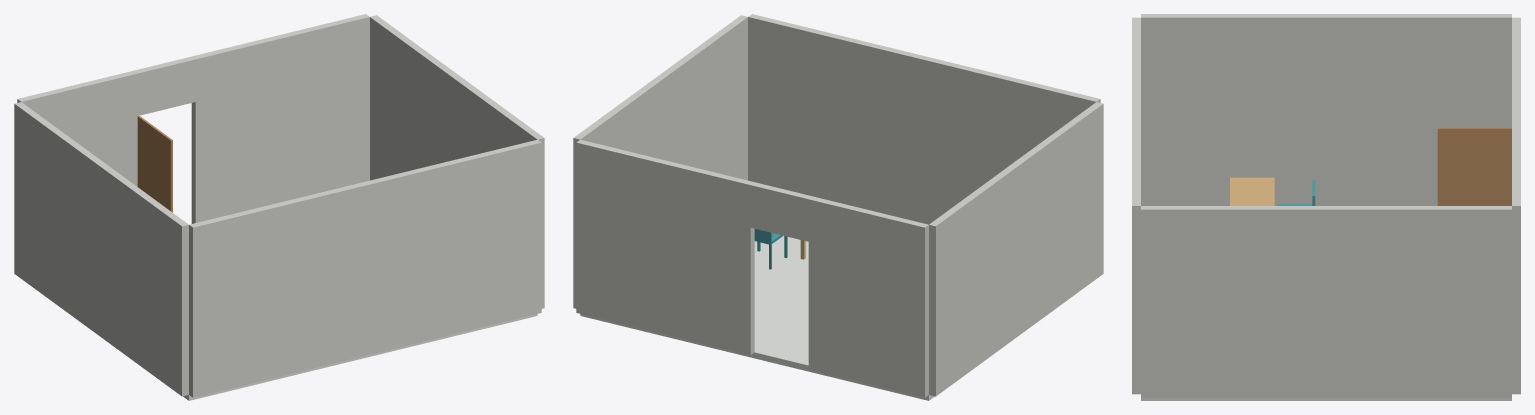
The model's file is resize-object.glb.
3 renders of one model, left to right at view 1: azimuth 30°, elevation 25°; view 2: azimuth 150°, elevation 25°; view 3: azimuth 270°, elevation 25°, orthographic. The views are drawn at different scales.
Parts seen in each view (by area): view 1: room:north:full, room:west:full, room:south:high, room:east:full, room:south:low, room:south:lintel, door:leaf, room:floor; view 2: room:north:full, room:south:high, room:west:full, room:south:low, room:east:full, room:floor, room:south:lintel; view 3: room:east:full, room:west:full, door:leaf, room:north:full, room:south:high, manual-a:table:top, room:floor, room:south:low.
Part boxes in pixels (left/top/right/bottom): room:north:full: left=189, top=139, right=541, bottom=397; room:west:full: left=14, top=102, right=188, bottom=396; room:south:high: left=191, top=14, right=369, bottom=223; room:east:full: left=370, top=15, right=544, bottom=308; room:south:low: left=17, top=70, right=137, bottom=186; room:south:lintel: left=134, top=56, right=195, bottom=115; door:leaf: left=137, top=115, right=172, bottom=212; room:floor: left=183, top=314, right=537, bottom=400; room:north:full: left=748, top=14, right=1100, bottom=224; room:south:high: left=576, top=139, right=754, bottom=355; room:west:full: left=929, top=102, right=1103, bottom=396; room:south:low: left=808, top=196, right=928, bottom=397; room:east:full: left=573, top=15, right=747, bottom=308; room:floor: left=580, top=235, right=934, bottom=400; room:south:lintel: left=750, top=182, right=812, bottom=241; room:east:full: left=1141, top=206, right=1511, bottom=397; room:west:full: left=1141, top=14, right=1511, bottom=205; door:leaf: left=1437, top=127, right=1511, bottom=205; room:north:full: left=1132, top=17, right=1140, bottom=394; room:south:high: left=1512, top=112, right=1520, bottom=394; manual-a:table:top: left=1230, top=177, right=1274, bottom=205; room:floor: left=1141, top=398, right=1511, bottom=400; room:south:low: left=1512, top=17, right=1520, bottom=80.
Size of the model in its own units: 6.24 by 2.9 by 5.24.
